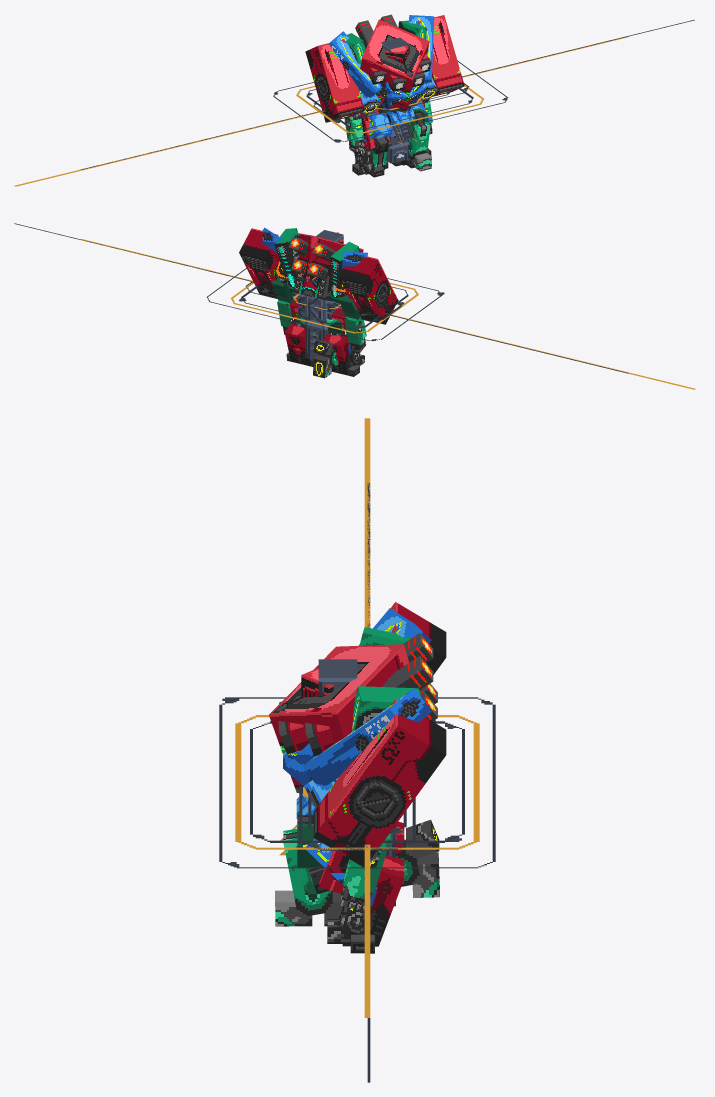
Rendered from mecha.glb.
3 renders of one model, top to bottom at view 1: azimuth 30°, elevation 25°; view 2: azimuth 150°, elevation 25°; view 3: azimuth 270°, elevation 25°, orthographic. The views are drawn at different scales.
Visible parts, largest first — view 1: mech_red, mech_blue, mech_green, railing, floor_target_line, floor_line, floor_target_large, floor_rect_large, floor_rect; view 2: mech_red, mech_green, mech_blue, railing, floor_target_line, floor_line, floor_target_large, railing_small, floor_rect_large, floor_rect; view 3: mech_red, mech_green, mech_blue, floor_target_line, floor_target_large, floor_rect_large, railing, floor_rect.
Boxes of the visible parts, x1,y1,x2,y2 form: mech_red: (305,14,464,177); mech_blue: (329,15,437,173); mech_green: (344,20,432,171); railing: (381,37,409,163); floor_target_line: (14,36,628,186); floor_line: (80,19,694,169); floor_target_large: (296,84,483,133); floor_rect_large: (273,60,508,142); floor_rect: (306,88,473,129); mech_red: (239,228,398,376); mech_green: (271,228,366,378); mech_blue: (262,227,367,365); railing: (305,230,343,359); floor_target_line: (81,239,695,389); floor_line: (14,223,628,373); floor_target_large: (231,282,418,333); railing_small: (305,295,327,331); floor_rect_large: (206,268,444,341); floor_rect: (239,286,408,329); mech_red: (269,602,446,953); mech_green: (275,627,439,926); mech_blue: (283,608,431,942); floor_target_line: (364,418,370,1017); floor_target_large: (235,715,479,849); floor_rect_large: (219,697,495,868); railing: (318,659,395,906); floor_rect: (250,721,464,842).
Size of the model in its own units: 40.59 by 7.89 by 7.14.
6 materials, 6 textured.
